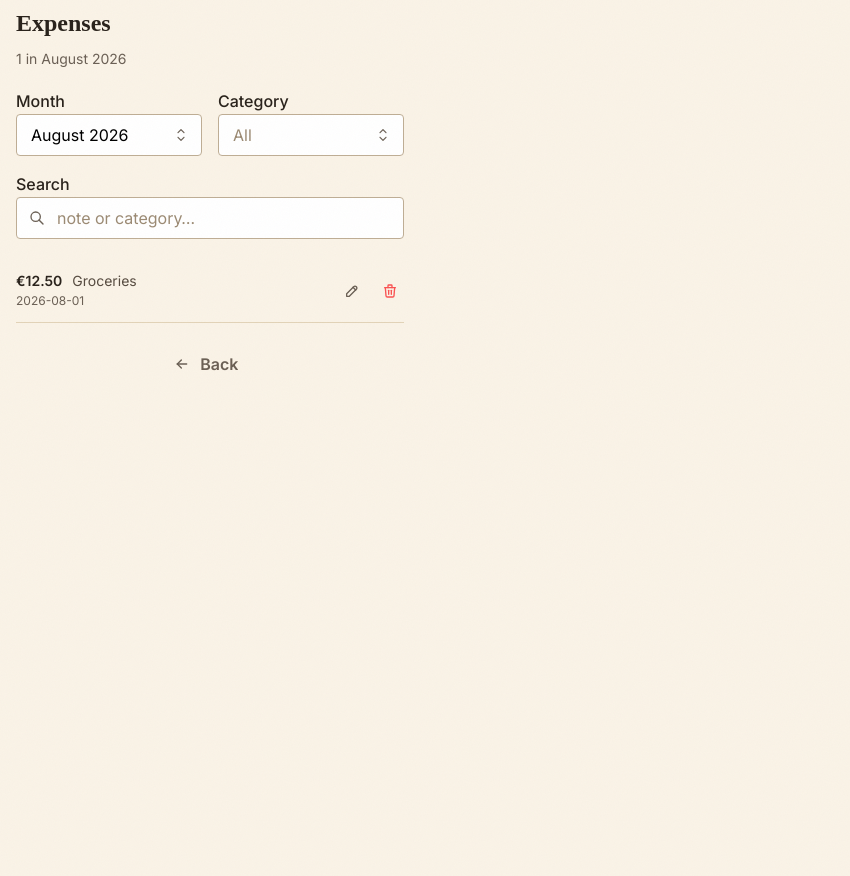
Test: Mutation failures are visible (BR-ERR-4, TICKET-025) › shows a toast when an expense delete fails
Click the button named "delete": (390,291) [376,277,404,305]
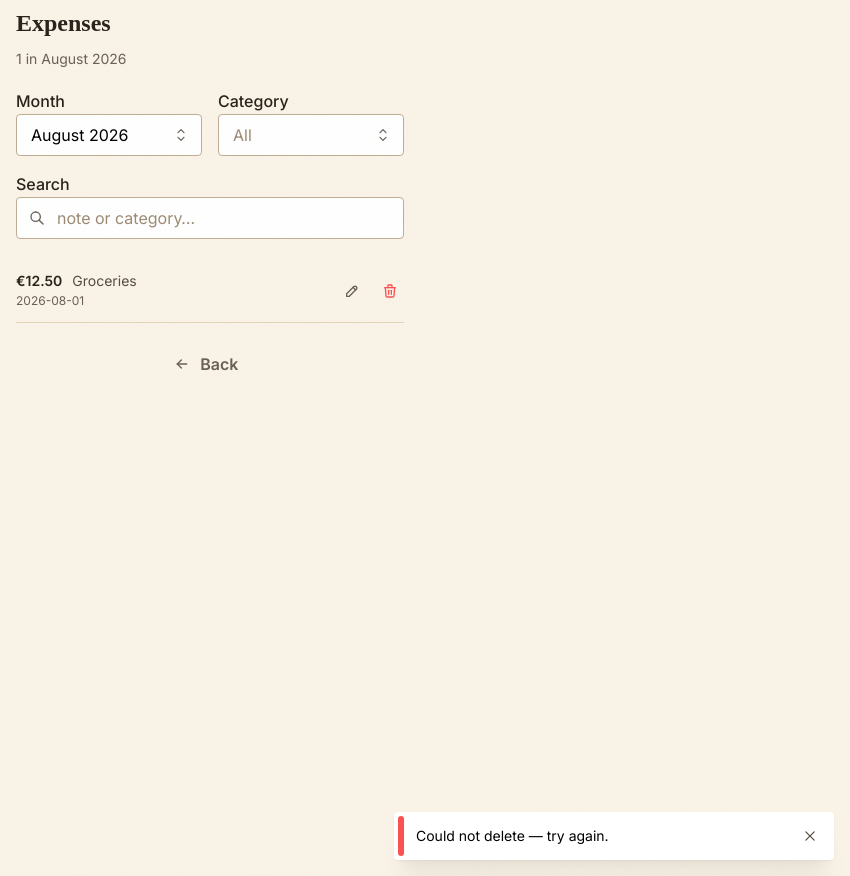
Check: the text "Could not delete — try again." is shown, box [416,827,609,844]
